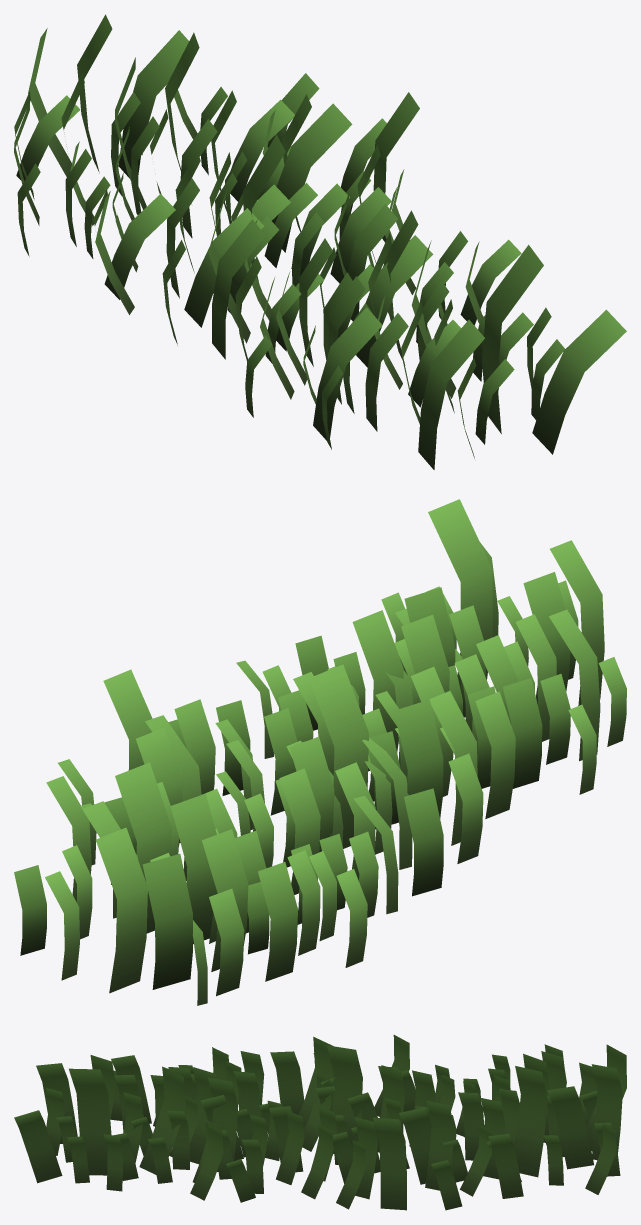
The model's file is gras_narrow.fbx.
The picture shows the model from 3 angles, top to bottom: view 1: azimuth 30°, elevation 25°; view 2: azimuth 150°, elevation 25°; view 3: azimuth 270°, elevation 25°; orthographic projection. The views are drawn at different scales.
Visible parts, largest first — view 1: gras; view 2: gras; view 3: gras.
Boxes of the visible parts, x1,y1,x2,y2 form: gras: [14, 14, 626, 469]; gras: [14, 499, 626, 1005]; gras: [14, 1035, 626, 1210].
Size of the model in its own units: 45.07 by 22.73 by 104.
